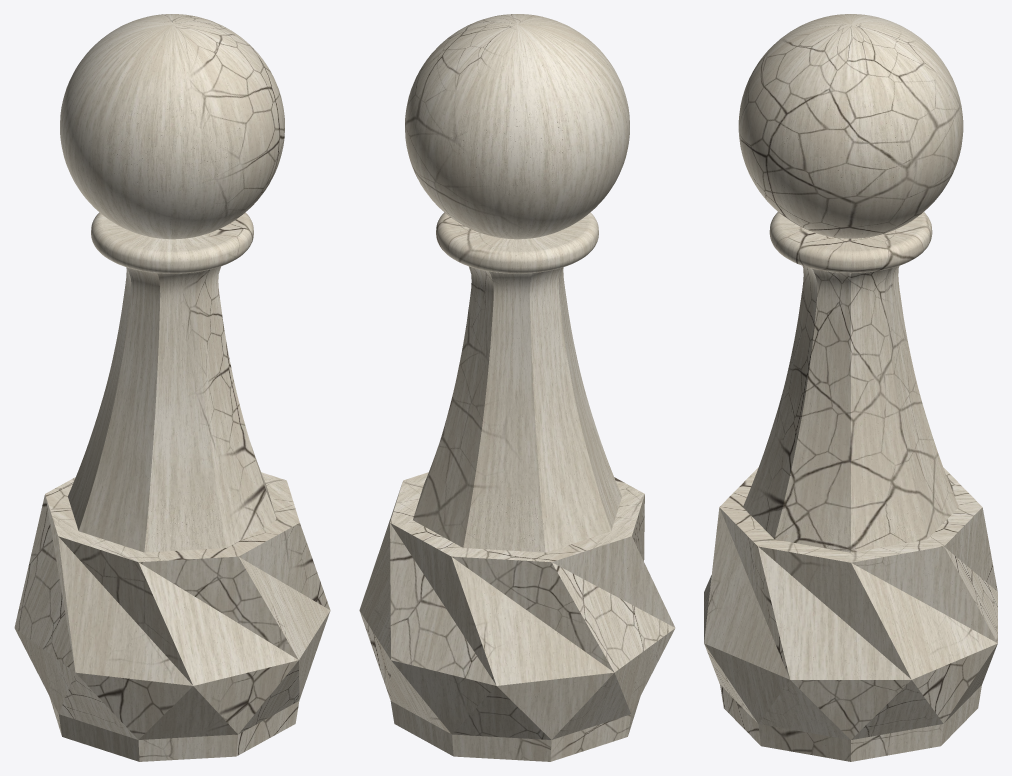
Rendered from pawn-white-hd.glb.
3 renders of one model, left to right at view 1: azimuth 30°, elevation 25°; view 2: azimuth 150°, elevation 25°; view 3: azimuth 270°, elevation 25°, orthographic.
Visible parts, largest first — view 1: Lithoxyl_Pawn_Ivory; view 2: Lithoxyl_Pawn_Ivory; view 3: Lithoxyl_Pawn_Ivory.
Part boxes in pixels (x1,y1,x2,y2): Lithoxyl_Pawn_Ivory: (14, 14, 330, 761); Lithoxyl_Pawn_Ivory: (359, 14, 675, 761); Lithoxyl_Pawn_Ivory: (704, 14, 997, 761).
Bounding box in the file's own units: 0.3739 × 0.96 × 0.3739.
1 material, 1 textured.
